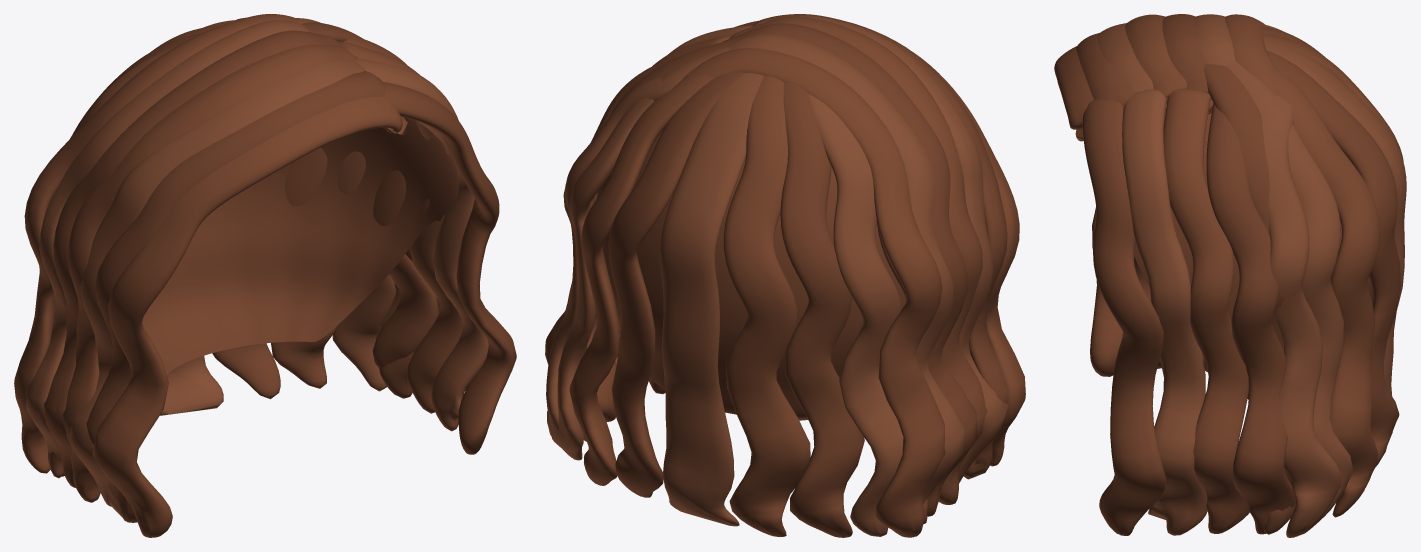
Rendered from curls-ears-default.glb.
3 views of the same model, side by side, from view 1: azimuth 30°, elevation 25°; view 2: azimuth 150°, elevation 25°; view 3: azimuth 270°, elevation 25° (orthographic).
Visible parts, largest first — view 1: 226 hair / Hair / sculpted 0.001, 226 hair / Hair / sculpted 1.002, 226 hair / Hair / sculpted 1.001, 226 hair / Hair / sculpted 2.001; view 2: 226 hair / Hair / sculpted 0.001, 226 hair / Hair / sculpted 2.001, 226 hair / Hair / sculpted 1.002, 226 hair / Hair / sculpted 1.001; view 3: 226 hair / Hair / sculpted 1.002, 226 hair / Hair / sculpted 2.001, 226 hair / Hair / sculpted 0.001, 226 hair / Hair / sculpted 1.001.
Part boxes in pixels (x1,y1,x2,y2): 226 hair / Hair / sculpted 0.001: (14,14,462,537); 226 hair / Hair / sculpted 1.002: (44,17,516,522); 226 hair / Hair / sculpted 1.001: (142,118,458,375); 226 hair / Hair / sculpted 2.001: (25,18,488,506); 226 hair / Hair / sculpted 0.001: (569,16,1025,537); 226 hair / Hair / sculpted 2.001: (546,15,1008,536); 226 hair / Hair / sculpted 1.002: (545,14,1008,537); 226 hair / Hair / sculpted 1.001: (596,130,905,420); 226 hair / Hair / sculpted 1.002: (1076,14,1400,535); 226 hair / Hair / sculpted 2.001: (1097,14,1406,537); 226 hair / Hair / sculpted 0.001: (1054,14,1403,533); 226 hair / Hair / sculpted 1.001: (1134,112,1373,399).
Size of the model in its own units: 0.9453 by 0.9384 by 0.696.
